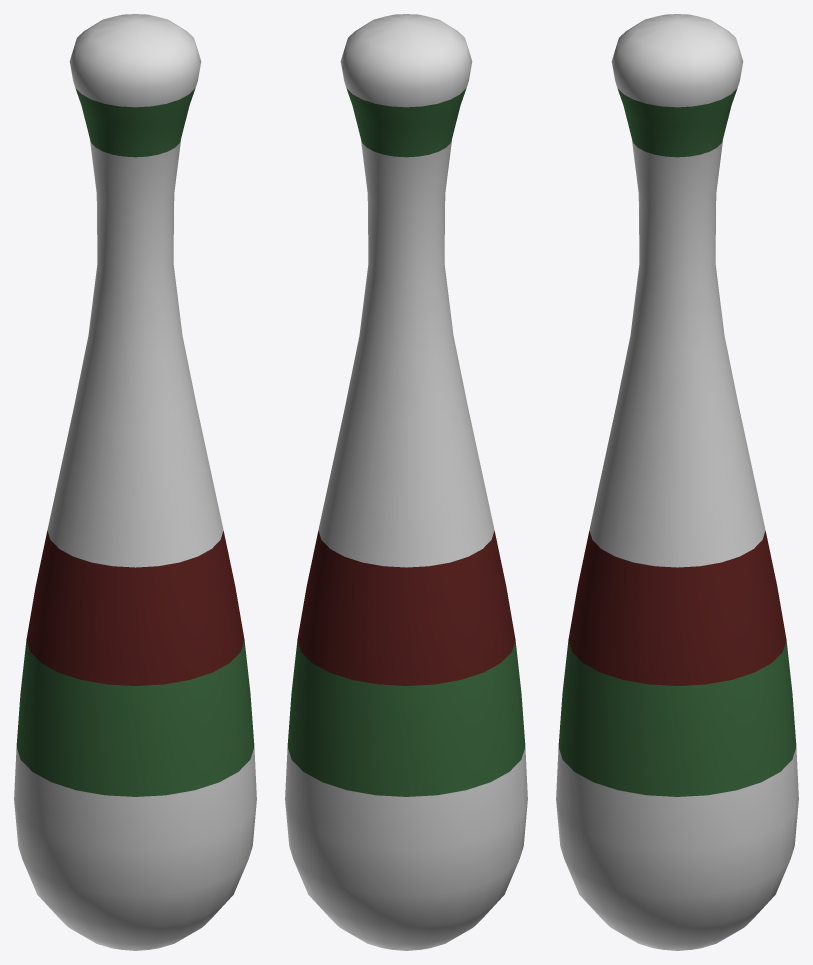
Rendered from juggling pin.fbx.
The picture shows the model from 3 angles, left to right: view 1: azimuth 30°, elevation 25°; view 2: azimuth 150°, elevation 25°; view 3: azimuth 270°, elevation 25°; orthographic projection.
Visible parts, largest first — view 1: Juggling Pin; view 2: Juggling Pin; view 3: Juggling Pin.
Part boxes in pixels (x1,y1,x2,y2): Juggling Pin: (14,14,256,950); Juggling Pin: (285,14,527,950); Juggling Pin: (556,14,798,950).
Size of the model in its own units: 48.39 by 203 by 48.39.
